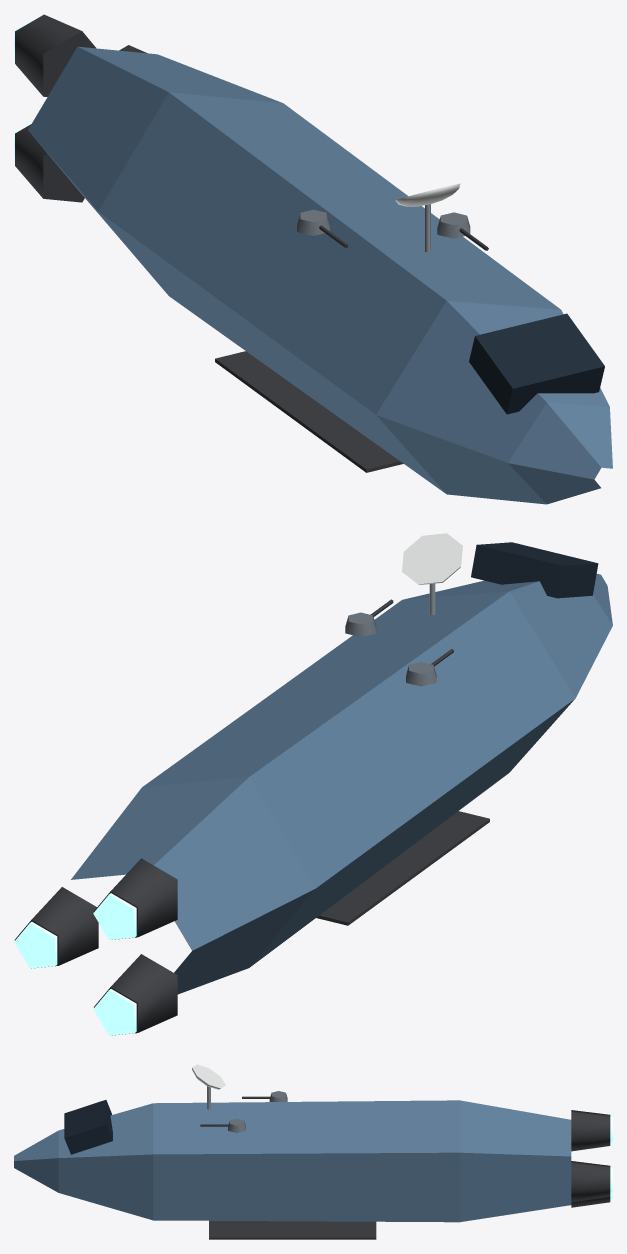
The model's file is space_ship_transport_mk5_lod1.glb.
3 renders of one model, top to bottom at view 1: azimuth 30°, elevation 25°; view 2: azimuth 150°, elevation 25°; view 3: azimuth 270°, elevation 25°, orthographic. The views are drawn at different scales.
Parts seen in each view (by area): view 1: body, hangar_door, engine_1, engine_2, antenna_0, turret_0, turret_1; view 2: body, hangar_door, engine_2, engine_1, engine_0, antenna_0, turret_0, turret_1; view 3: body, hangar_door, engine_0, engine_1, antenna_0, turret_0, turret_1, engine_2.
Boxes of the visible parts, x1,y1,x2,y2 form: body: (28, 46, 612, 504); hangar_door: (215, 351, 403, 472); engine_1: (14, 14, 95, 96); engine_2: (14, 122, 84, 202); antenna_0: (395, 183, 460, 252); turret_0: (437, 212, 488, 250); turret_1: (297, 209, 348, 247); body: (71, 542, 612, 994); hangar_door: (316, 811, 489, 925); engine_2: (93, 954, 177, 1035); engine_1: (93, 858, 177, 939); engine_0: (14, 887, 98, 968); antenna_0: (402, 533, 462, 615); turret_0: (345, 599, 393, 636); turret_1: (406, 649, 453, 686); body: (14, 1100, 571, 1222); hangar_door: (209, 1221, 376, 1239); engine_0: (571, 1161, 612, 1202); engine_1: (571, 1110, 612, 1151); antenna_0: (192, 1064, 225, 1109); turret_0: (200, 1118, 245, 1132); turret_1: (242, 1091, 287, 1101); engine_2: (571, 1195, 612, 1207).
Size of the model in its own units: 5.9 by 8.21 by 28.63.
